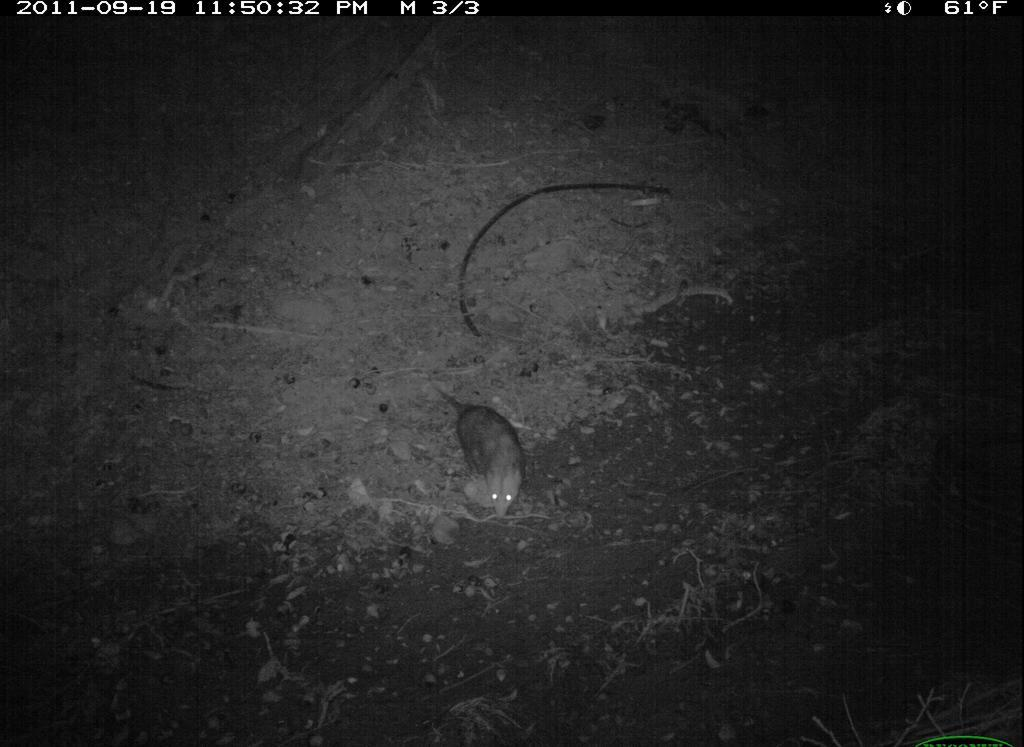opossum: (425, 373, 534, 525)
